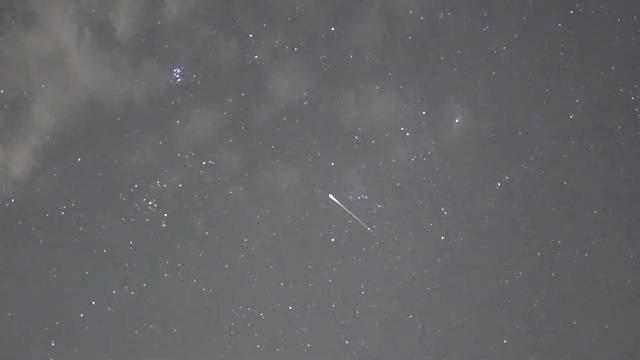meteorite: (312, 190, 392, 236)
